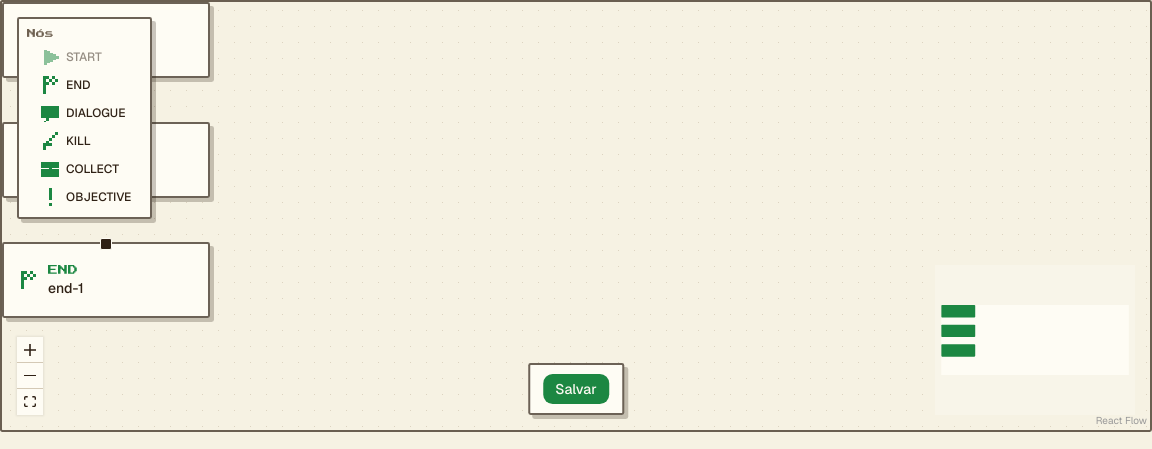
MissionCanvas editable › shows live dead-end badges after deleting a node via the panel
What coordinates should you click on to do the following:
click the text "end-1"
I would click on:
 (66, 288)
Its box is [48,278,84,298].
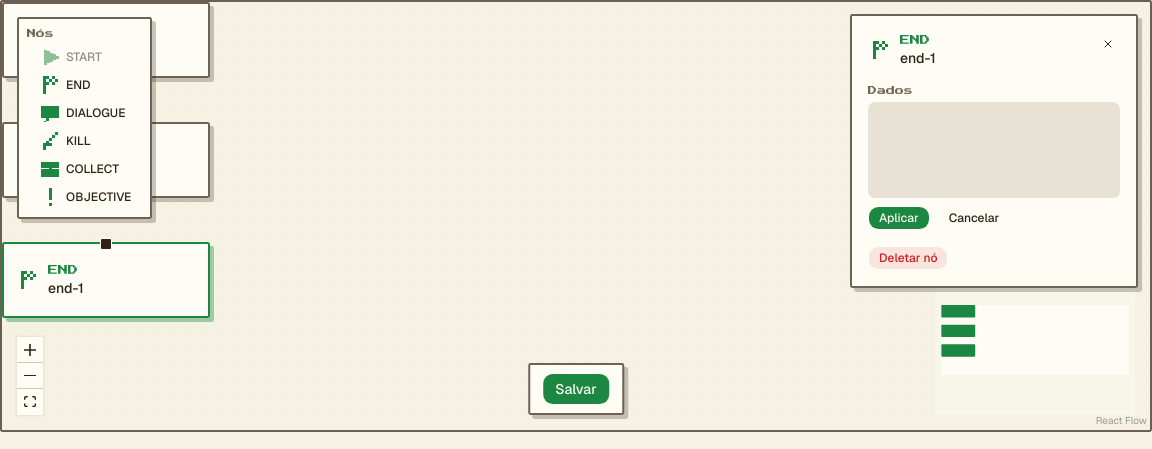
What coordinates should you click on to do the following:
click the button with test id "delete-node"
I would click on:
 (908, 258)
Its box is [868,246,948,270].
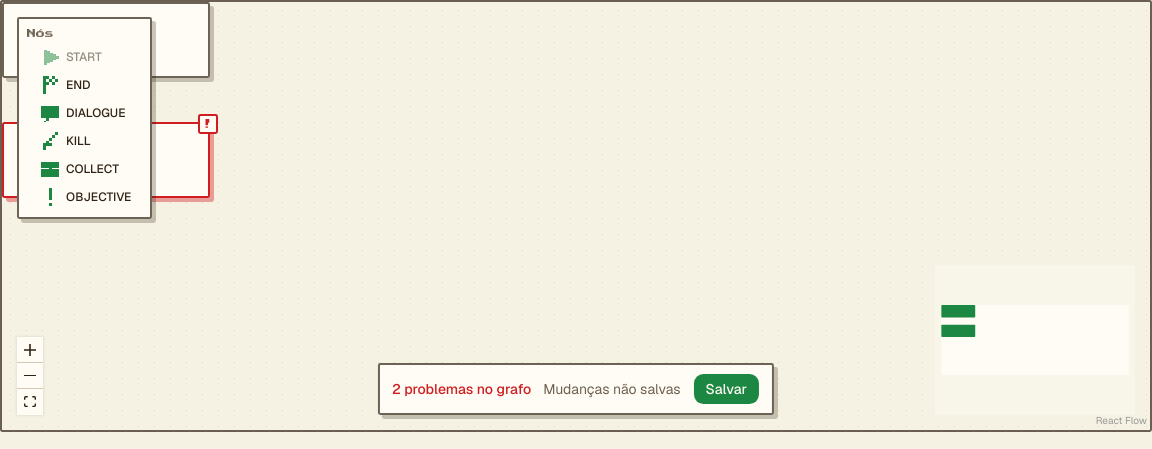
Expected: the number of elements with test id "quest-node" is 2, [2,2,210,78]; [2,122,210,198]
Expected: the text "!" is shown, [198,114,218,134]
Expected: the element with test id "node-panel" is gone
